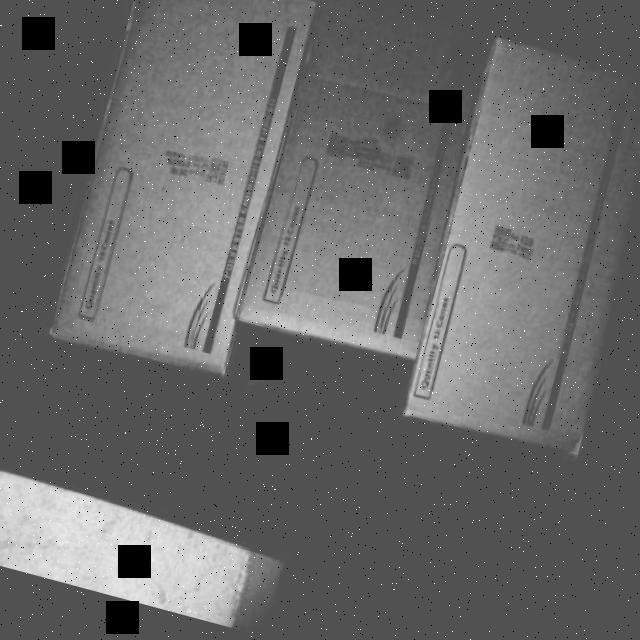box: (47, 0, 323, 375), (399, 43, 640, 465), (238, 0, 500, 363)
